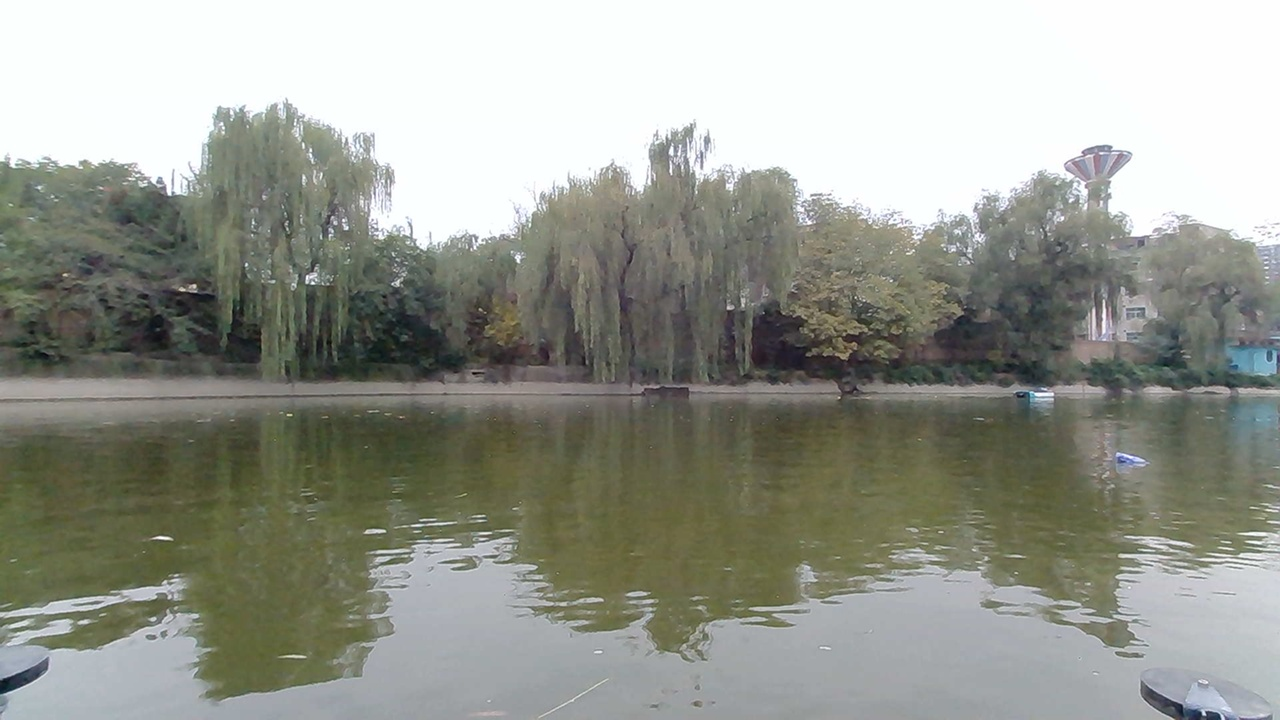bottle: (1104, 445, 1149, 479)
